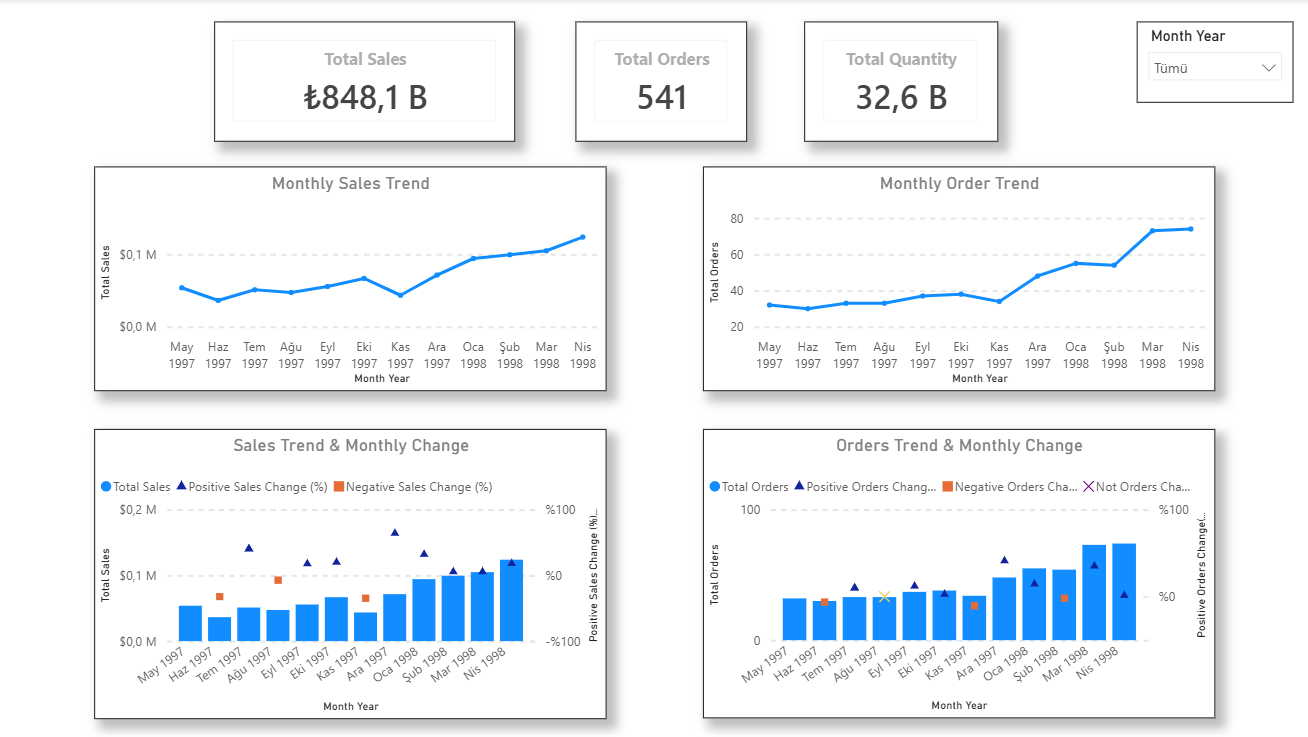

The page's visual inventory and layout, read from the dashboard file:
{"tool":"powerbi","page":{"name":"1. sayfa","canvas":[1280,720],"ordinal":0},"visuals":[{"type":"cardVisual","fields":{"Data":["Order Details.Total Sales","Order Details.Total Sales","Order Details.Total Sales"]},"box":[213.8,21.7,290.8,115.8],"z":0},{"type":"cardVisual","fields":{"Data":["Order Details.Total Orders"]},"box":[562.5,21.7,165.3,115.8],"z":1000},{"type":"cardVisual","fields":{"Data":["Order Details.Total Quantity"]},"box":[783.2,21.7,187,115.8],"z":2000},{"type":"lineChart","title":"Monthly Sales Trend","fields":{"Y":["Order Details.Total Sales"],"Category":["DateTable.Month Year"]},"box":[97.3,161.9,494,216.9],"z":3000},{"type":"lineChart","title":"Monthly Order Trend","fields":{"Y":["Order Details.Total Orders"],"Category":["DateTable.Month Year"]},"box":[685.3,161.9,494,216.9],"z":4000},{"type":"lineStackedColumnComboChart","title":"Sales Trend & Monthly Change","fields":{"Category":["DateTable.Month Year"],"Y":["Order Details.Total Sales"],"Y2":["DAX Measures.Positive Sales Change (%)","DAX Measures.Negative Sales Change (%)"]},"box":[97.7,415,494.6,279.9],"z":5000},{"type":"slicer","fields":{"Values":["DateTable.Month Year"]},"box":[1103.9,21.7,150.9,78.6],"z":6000},{"type":"lineStackedColumnComboChart","title":"Orders Trend & Monthly Change","fields":{"Category":["DateTable.Month Year"],"Y":["DAX Measures.Total Orders"],"Y2":["DAX Measures.Positive Orders Change(%)","DAX Measures.Negative Orders Change(%)","DAX Measures.Nott Orders Change(%)"]},"box":[685.3,415,494,279],"z":7000}]}

Visuals, with their boxes in screenshot pixels (x1, y1, x2, y2), scaled from the page's 1280x720 canvas onto the 1308x737 screenshot:
cardVisual - Order Details.Total Sales x Order Details.Total Sales: (left=218, top=22, right=516, bottom=141)
cardVisual - Order Details.Total Orders: (left=575, top=22, right=744, bottom=141)
cardVisual - Order Details.Total Quantity: (left=800, top=22, right=991, bottom=141)
"Monthly Sales Trend" lineChart: (left=99, top=166, right=604, bottom=388)
"Monthly Order Trend" lineChart: (left=700, top=166, right=1205, bottom=388)
"Sales Trend & Monthly Change" lineStackedColumnComboChart: (left=100, top=425, right=605, bottom=711)
slicer - DateTable.Month Year: (left=1128, top=22, right=1282, bottom=103)
"Orders Trend & Monthly Change" lineStackedColumnComboChart: (left=700, top=425, right=1205, bottom=710)
